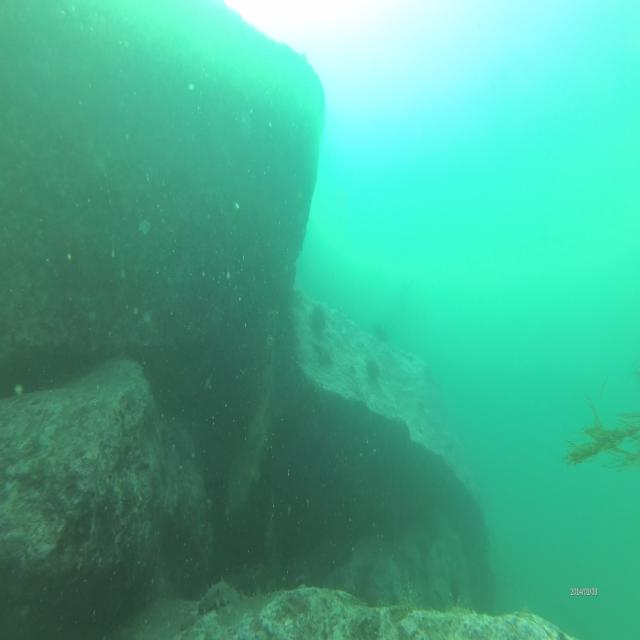echinus: (307, 298, 327, 338), (367, 357, 382, 384)
holothurian: (196, 572, 239, 618)
